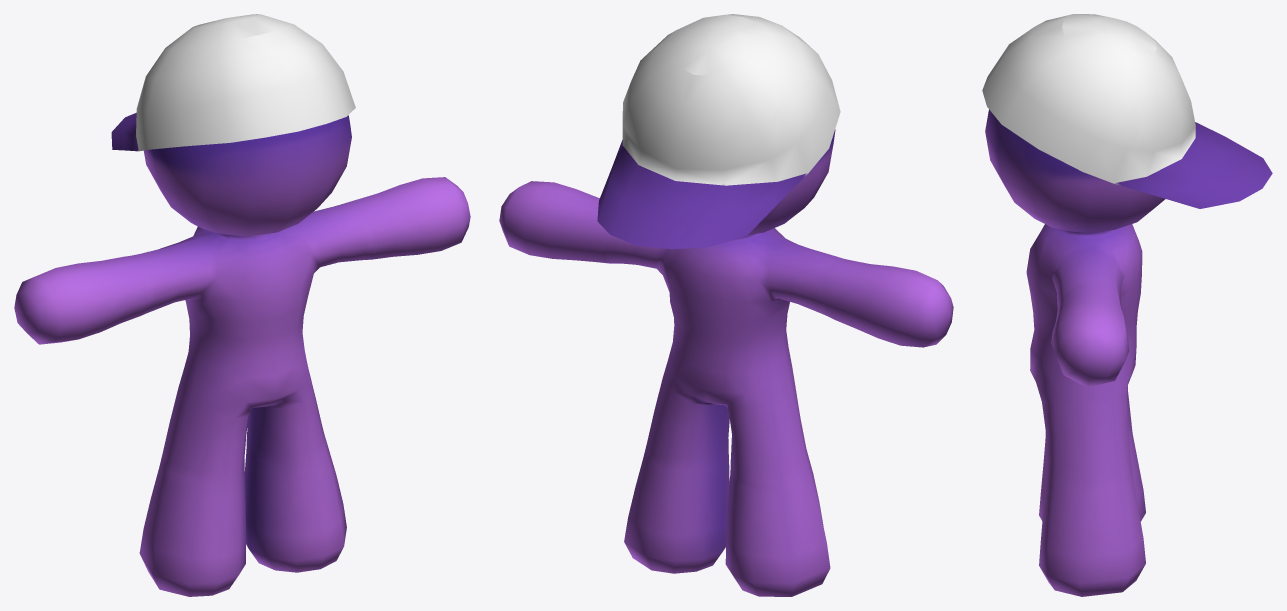
Rendered from Model_Stickman_Purple.fbx.
3 renders of one model, left to right at view 1: azimuth 30°, elevation 25°; view 2: azimuth 150°, elevation 25°; view 3: azimuth 270°, elevation 25°, orthographic. The views are drawn at different scales.
Visible parts, largest first — view 1: Model_Stickman_Purple; view 2: Model_Stickman_Purple; view 3: Model_Stickman_Purple.
Boxes of the visible parts, left/top/right/bottom form: Model_Stickman_Purple: left=14, top=14, right=470, bottom=596; Model_Stickman_Purple: left=499, top=14, right=953, bottom=596; Model_Stickman_Purple: left=982, top=14, right=1272, bottom=596.
Size of the model in its own units: 218 by 258 by 127.
